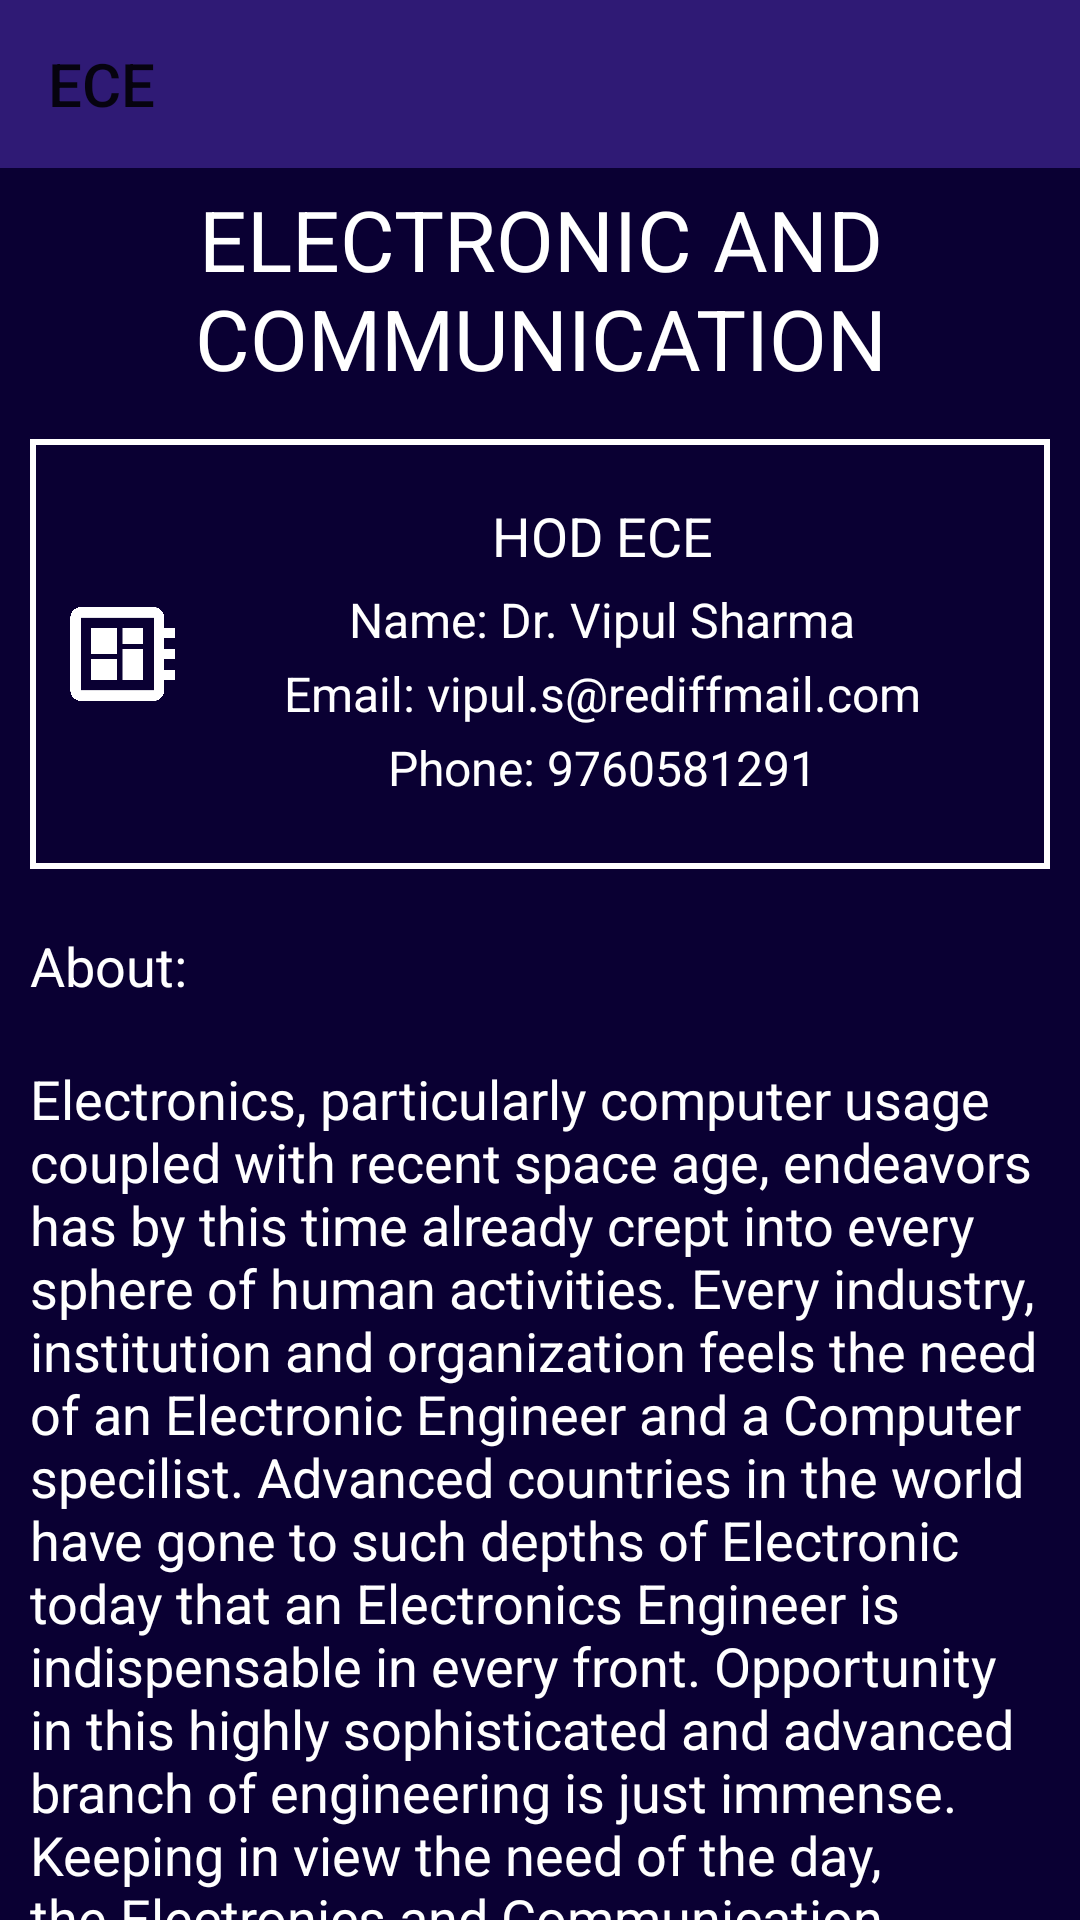

Locate icon controls on the screen. Image size 1080*1920, boxes as (x1, y1, x2, y2).
developer board: (70, 607, 175, 701)
